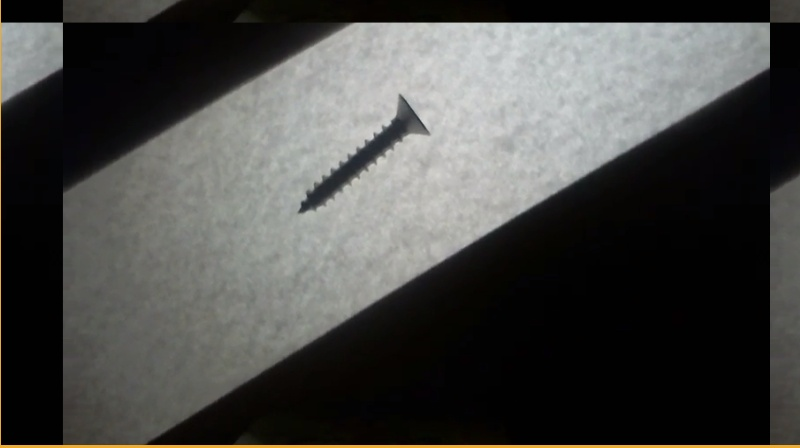S001: (293, 88, 432, 215)
